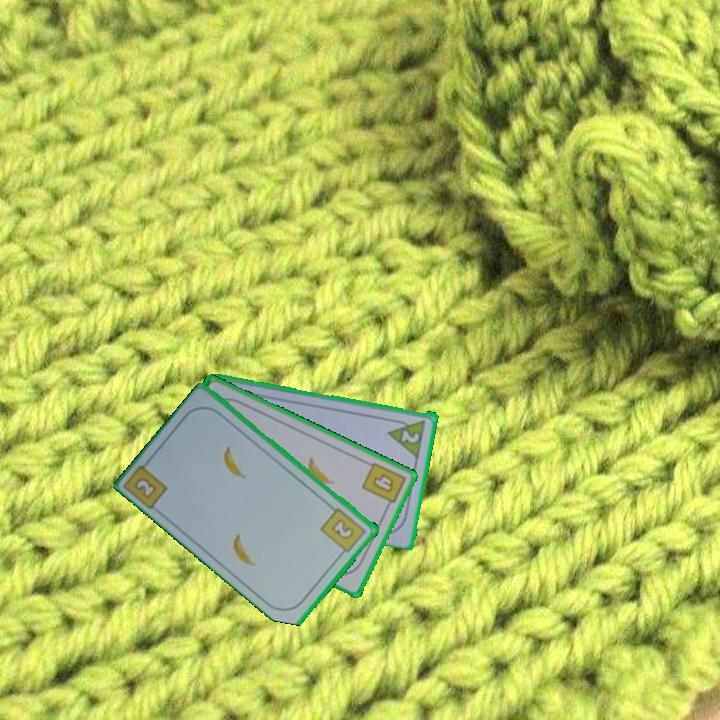2b: (317, 504, 369, 559), (122, 454, 171, 512)
2p: (385, 415, 429, 459)
4b: (358, 458, 409, 512)
